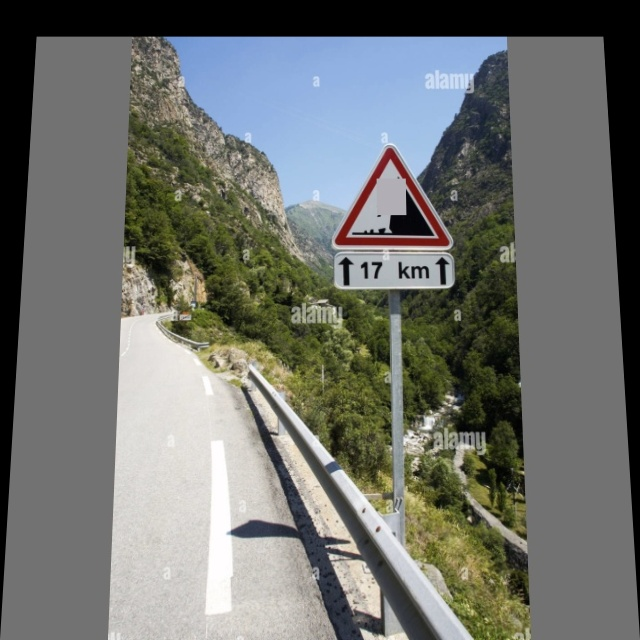Falling_Rocks: (334, 145, 449, 248)
